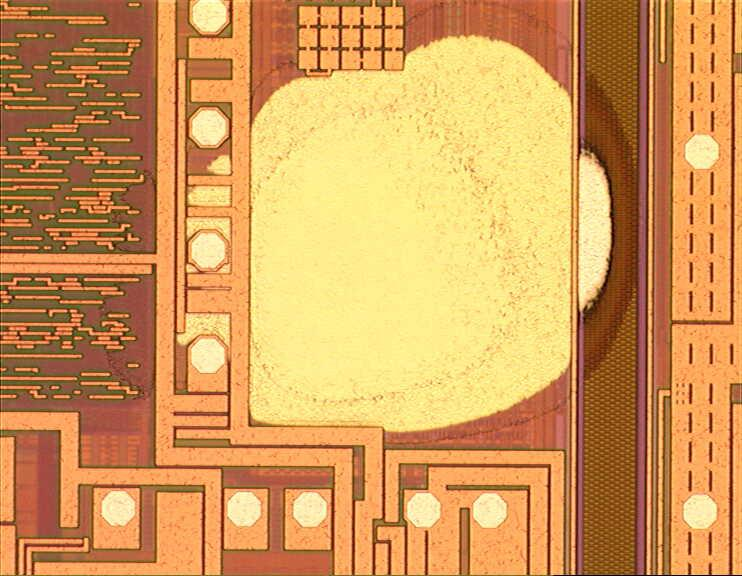BLOCK ETCH: (97, 1, 657, 469)
